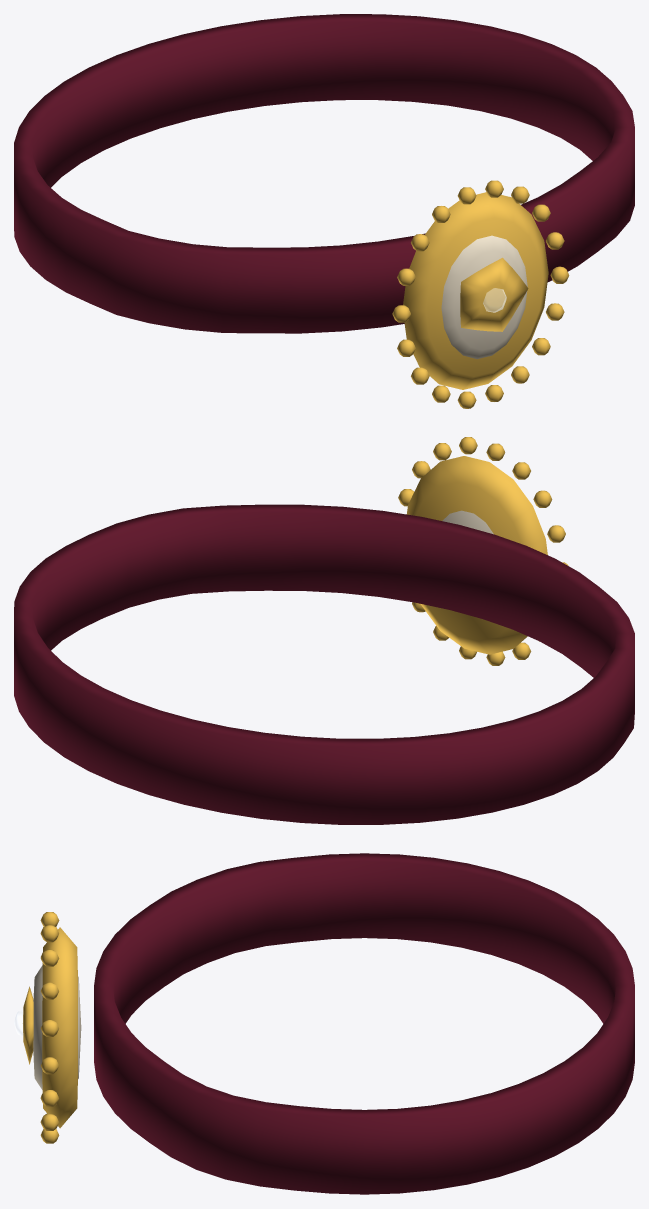
File: velvet_cameo_choker.glb
3 renders of one model, top to bottom at view 1: azimuth 30°, elevation 25°; view 2: azimuth 150°, elevation 25°; view 3: azimuth 270°, elevation 25°, orthographic.
Visible parts, largest first — view 1: velvet_cameo_choker; view 2: velvet_cameo_choker; view 3: velvet_cameo_choker.
Boxes of the visible parts, x1=… form: velvet_cameo_choker: x1=14, y1=14, x2=634, y2=408; velvet_cameo_choker: x1=14, y1=437, x2=634, y2=824; velvet_cameo_choker: x1=14, y1=853, x2=634, y2=1194.
Size of the model in its own units: 0.0738 by 0.0284 by 0.0732.
